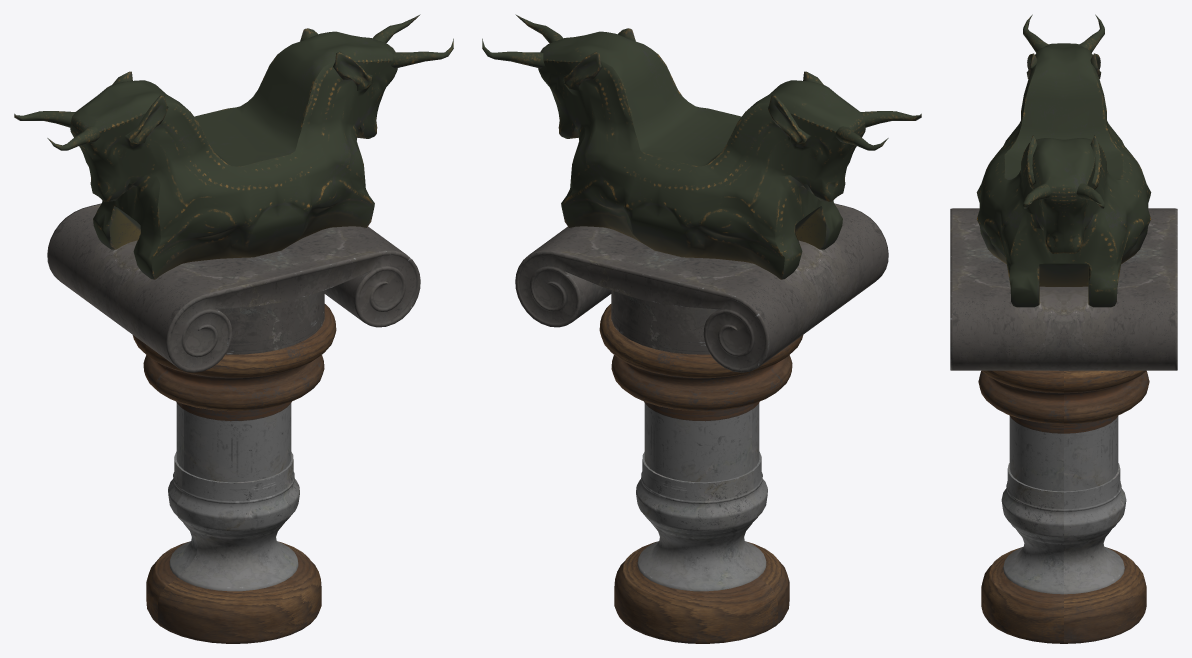
The model's file is SM_StatueA.fbx.
3 renders of one model, left to right at view 1: azimuth 30°, elevation 25°; view 2: azimuth 150°, elevation 25°; view 3: azimuth 270°, elevation 25°, orthographic. The views are drawn at different scales.
Parts seen in each view (by area): view 1: SM_StatueA_LOD0; view 2: SM_StatueA_LOD0; view 3: SM_StatueA_LOD0.
Boxes of the visible parts, left/top/right/bottom form: SM_StatueA_LOD0: left=14, top=14, right=453, bottom=643; SM_StatueA_LOD0: left=482, top=14, right=921, bottom=643; SM_StatueA_LOD0: left=950, top=14, right=1177, bottom=643.
Size of the model in its own units: 178 by 91.39 by 228.
Materials: 1 (1 with a texture image).
